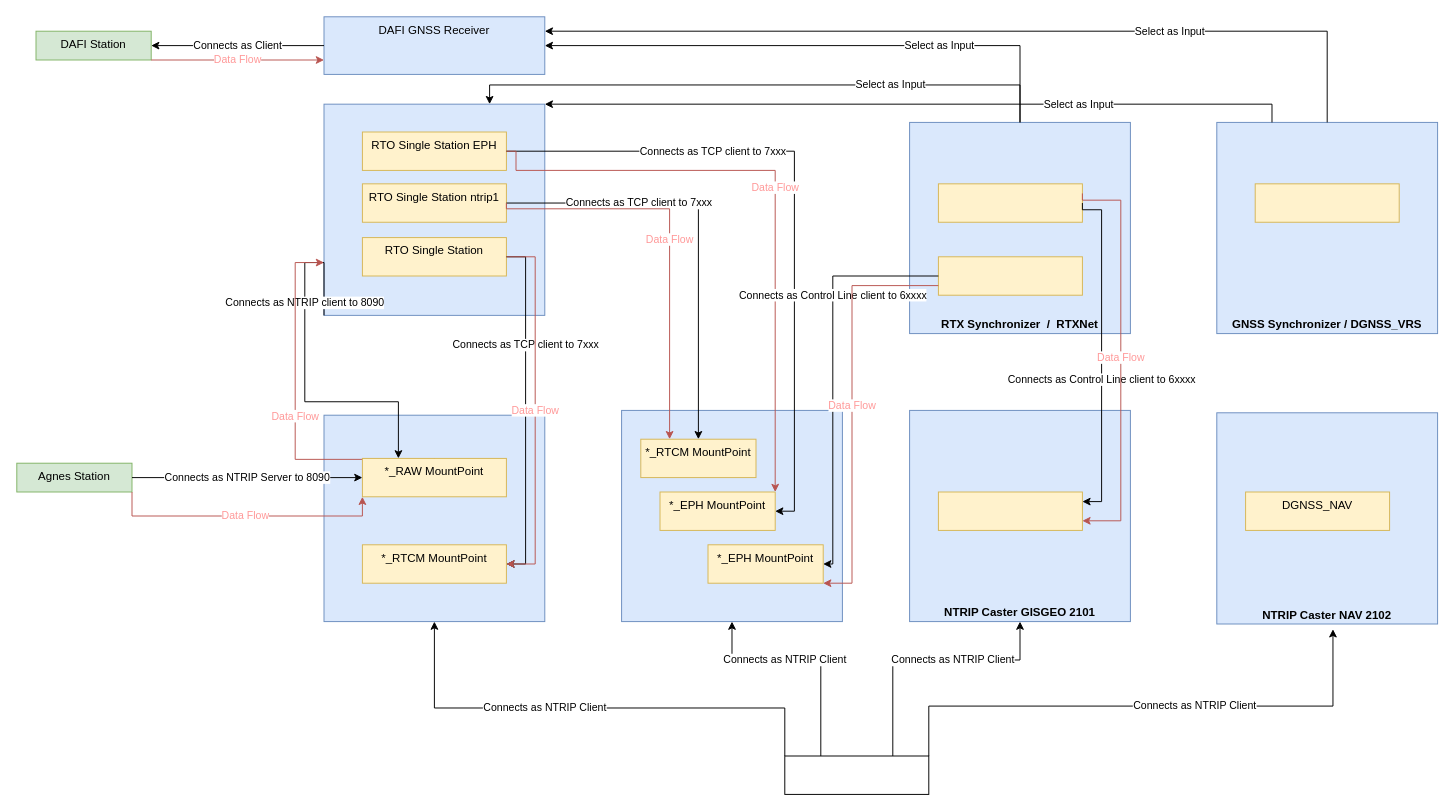
Image size: 1454x811. Some labels were removed from this diagram. Here are the shapes that lost their labels. From the top down, the box of each, then its label:
(323, 103, 545, 315): AGNES GNSS Receiver
(937, 183, 1082, 222): RTO Net MSM/VRS *
(1254, 183, 1399, 222): RTO swipos NAV
(937, 256, 1082, 295): RTO Net VRS_nocheck
(323, 414, 545, 622): NTRIP Caster INFRA Ntrip2 8090
(621, 409, 842, 622): NTRIP Caster TestDienste 8100
(937, 491, 1082, 530): MSM/VRS *
(784, 755, 929, 794): CLIENTS
